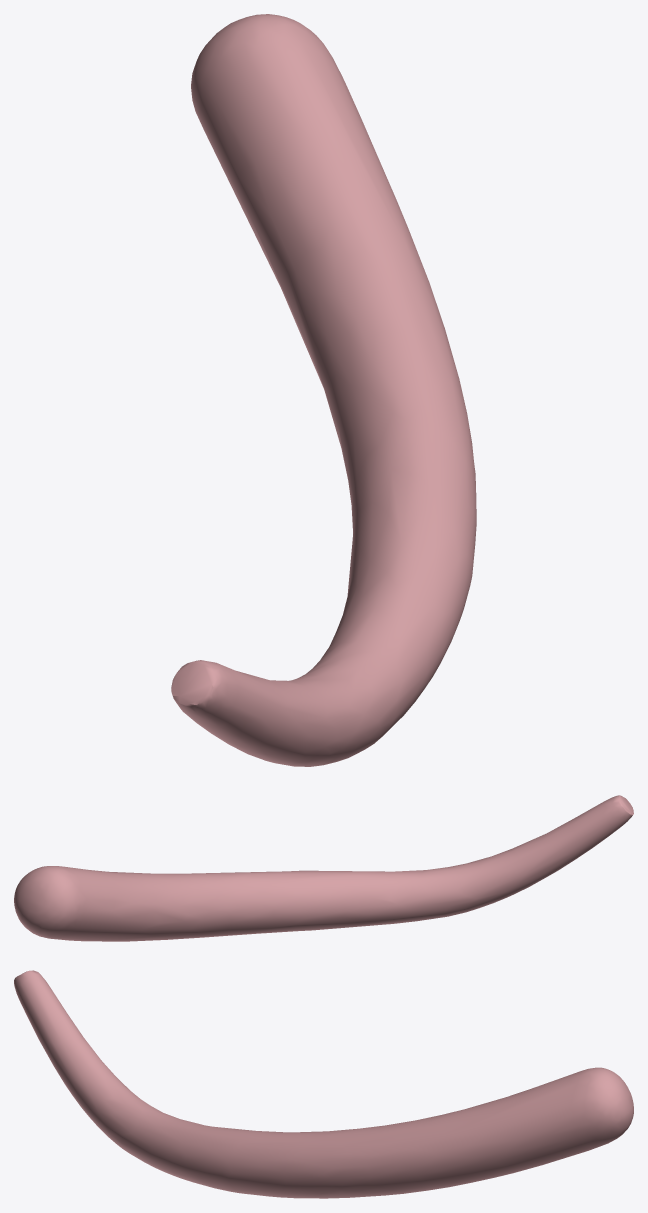
Rendered from fma68214_fj6535.glb.
3 renders of one model, top to bottom at view 1: azimuth 30°, elevation 25°; view 2: azimuth 150°, elevation 25°; view 3: azimuth 270°, elevation 25°, orthographic. The views are drawn at different scales.
Visible parts, largest first — view 1: FMA68214_FJ6535; view 2: FMA68214_FJ6535; view 3: FMA68214_FJ6535.
Boxes of the visible parts, x1=… form: FMA68214_FJ6535: x1=171, y1=14, x2=476, y2=766; FMA68214_FJ6535: x1=14, y1=795, x2=633, y2=941; FMA68214_FJ6535: x1=14, y1=970, x2=633, y2=1198.
Bounding box in the file's own units: 0.0284 × 0.0129 × 0.0417.
